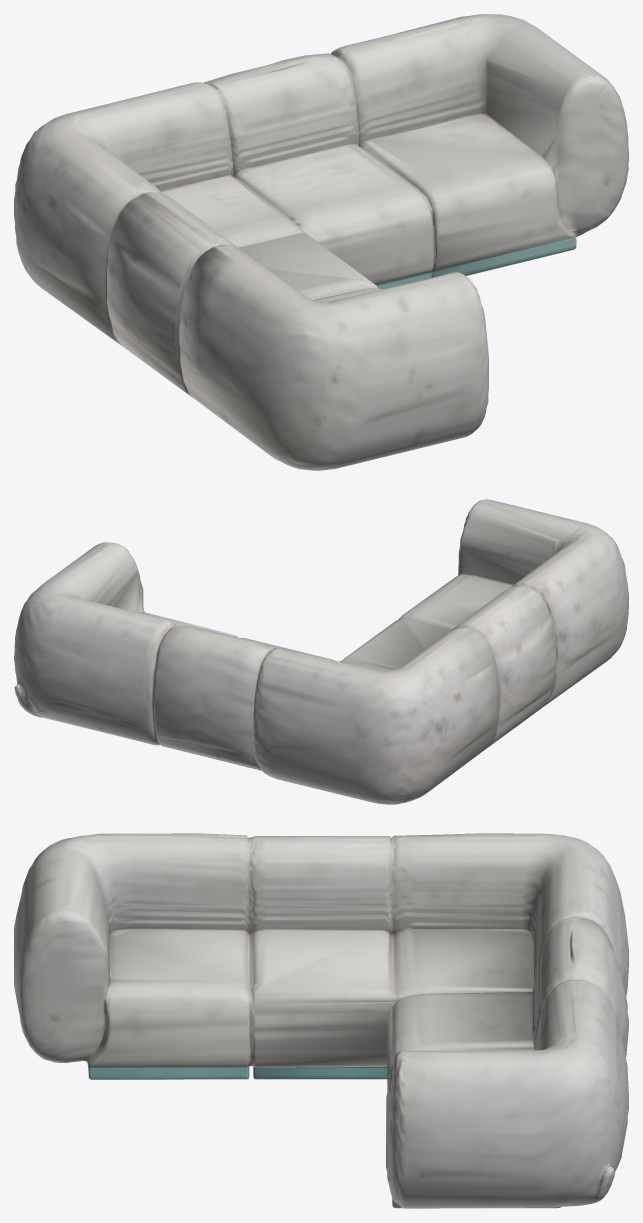
File: white_sectional_sofa_0127182948_texture.glb
The picture shows the model from 3 angles, top to bottom: view 1: azimuth 30°, elevation 25°; view 2: azimuth 150°, elevation 25°; view 3: azimuth 270°, elevation 25°; orthographic projection. The views are drawn at different scales.
Visible parts, largest first — view 1: Mesh_0; view 2: Mesh_0; view 3: Mesh_0.
Part boxes in pixels (x1,y1,x2,y2): Mesh_0: [14, 14, 628, 470]; Mesh_0: [14, 499, 628, 804]; Mesh_0: [14, 833, 628, 1208].
Size of the model in its own units: 2.76 by 0.8128 by 2.76.
Materials: 1 (1 with a texture image).
